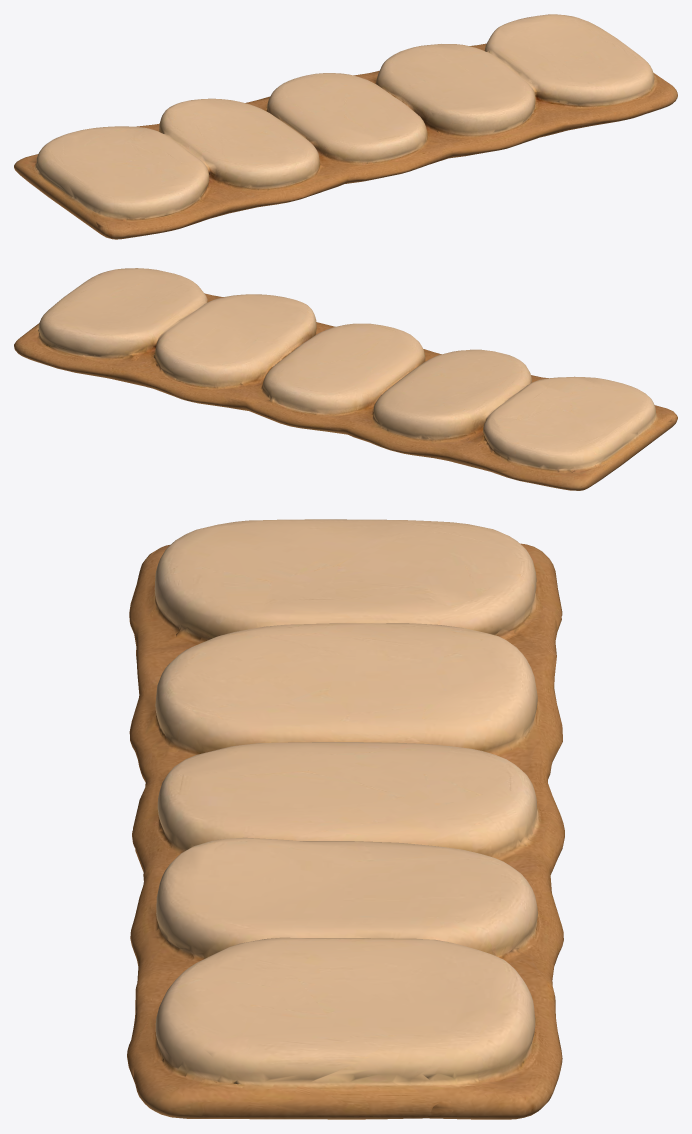
The model's file is road-straight.glb.
3 views of the same model, one above another, from view 1: azimuth 30°, elevation 25°; view 2: azimuth 150°, elevation 25°; view 3: azimuth 270°, elevation 25° (orthographic). The views are drawn at different scales.
Parts seen in each view (by area): view 1: Mesh_0; view 2: Mesh_0; view 3: Mesh_0.
Part boxes in pixels (x1=…): Mesh_0: x1=14, y1=14, x2=677, y2=239; Mesh_0: x1=14, y1=268, x2=677, y2=490; Mesh_0: x1=127, y1=519, x2=564, y2=1119.
Bounding box in the file's own units: 2 × 0.1253 × 0.6607.
1 material, 1 textured.
